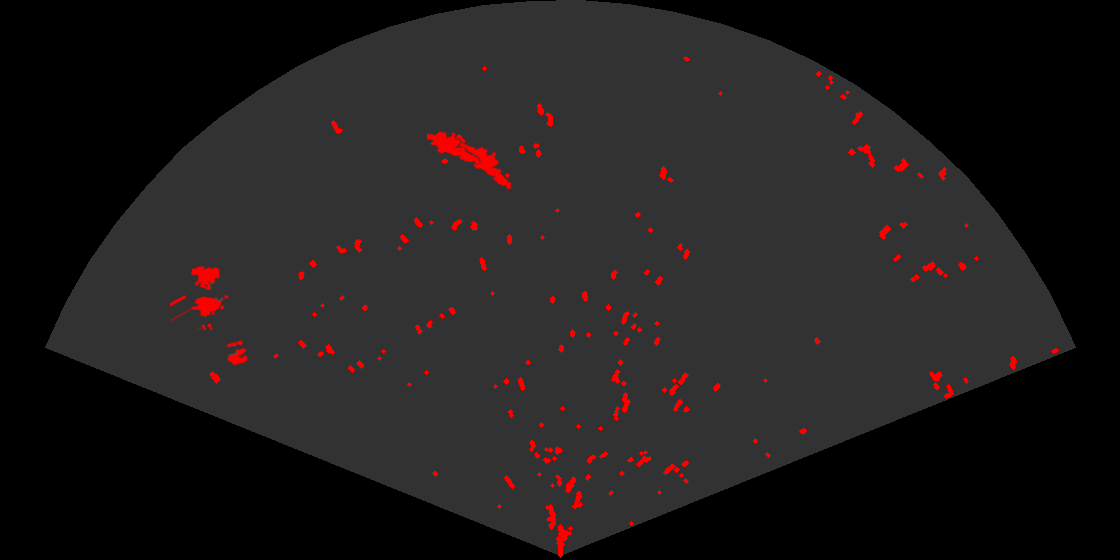ball: (225, 338, 250, 367)
cage: (170, 264, 230, 330)
frogman: (460, 140, 514, 191), (427, 129, 482, 165)
